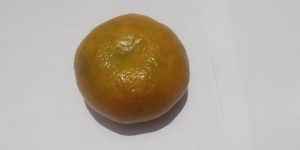BAD: (74, 12, 193, 126)
